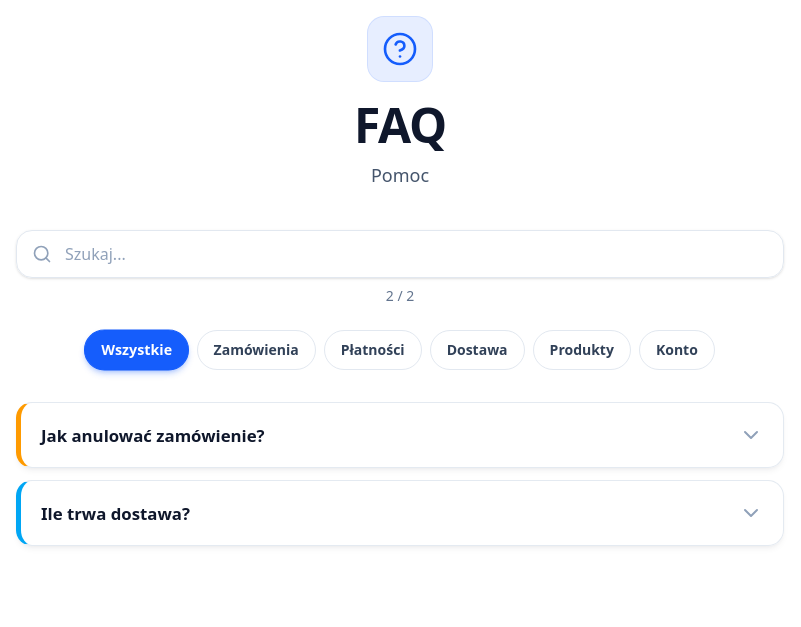
FaqPage Unit Tests › powinien otwierać i zamykać akordeon z odpowiedzią
Expected: the text "Skontaktuj się z supportem." is not shown
// Klikamy by otworzyć
Click the button "Jak anulować zamówienie?" at (153, 435), box [21,403,783,467]
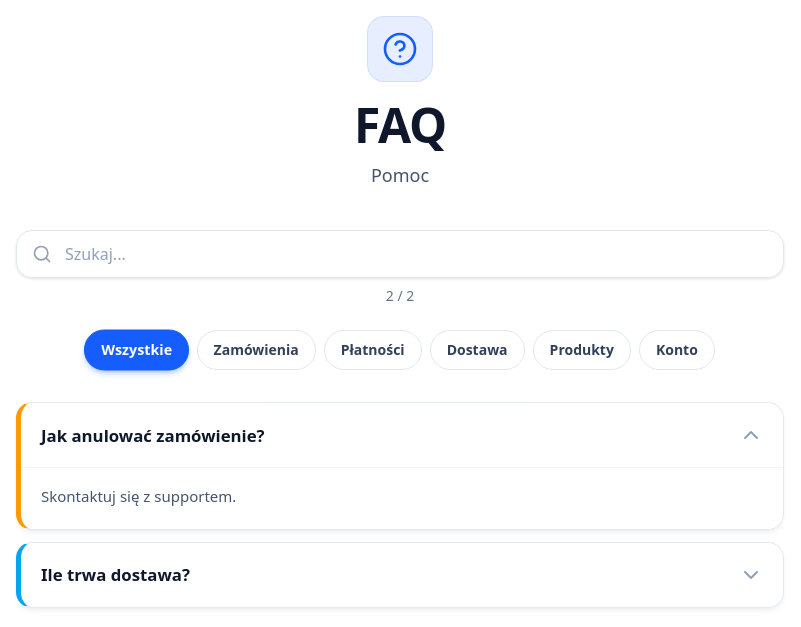
Expected: the text "Skontaktuj się z supportem." is shown, [41,486,236,506]
// Klikamy ponownie by zamknąć
Click the button "Jak anulować zamówienie?" at (153, 435), box [21,403,783,467]
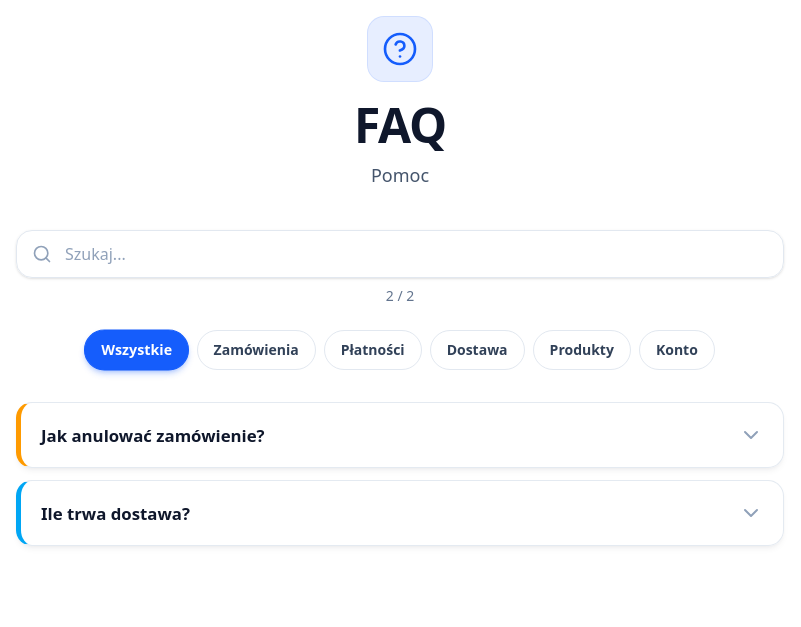
Expected: the text "Skontaktuj się z supportem." is gone
